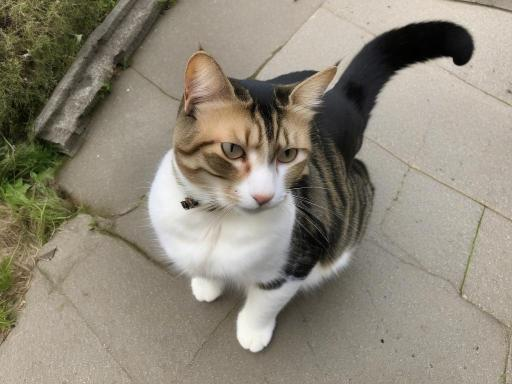cat_sitting: (148, 21, 474, 352)
